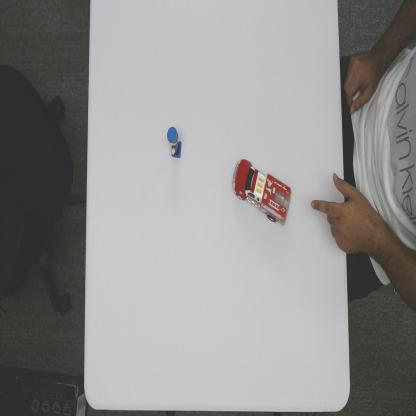Firetruck: (231, 153, 292, 228)
Hand: (309, 173, 371, 258)
